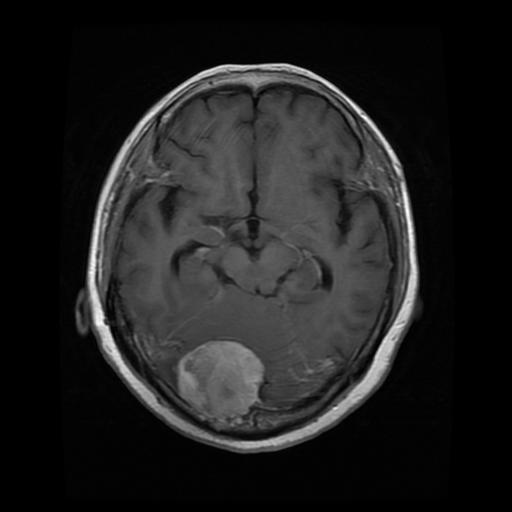Menigiomia_tumour: (176, 339, 264, 417)
